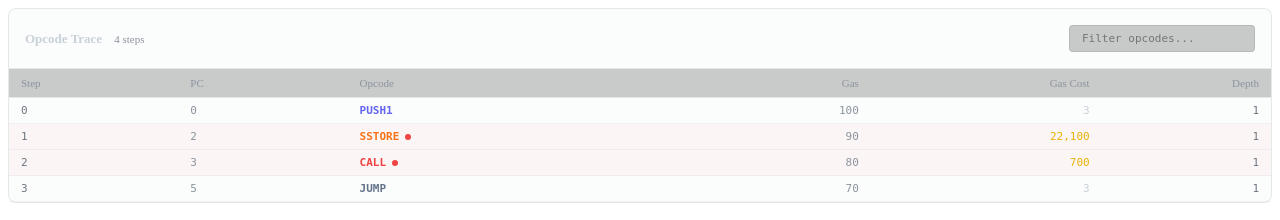
it: OpcodeViewer › filters by opcode (case-insensitive substring)
This screenshot has width=1280, height=220.
Type "call" into the field labelled "Filter opcodes".
click(1162, 38); type("call")  # box x1=1069 y1=25 x2=1255 y2=52
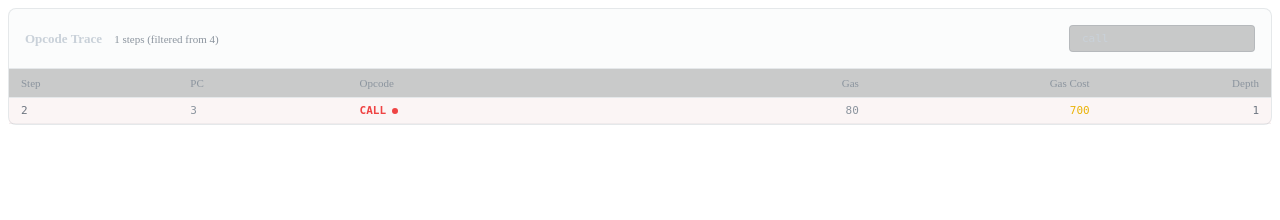
Expected: the text "CALL" is shown, x1=360 y1=104 x2=386 y2=117
Expected: the text "PUSH1" is gone
Expected: the text "1 steps (filtered from 4)" is shown, x1=114 y1=32 x2=219 y2=44
